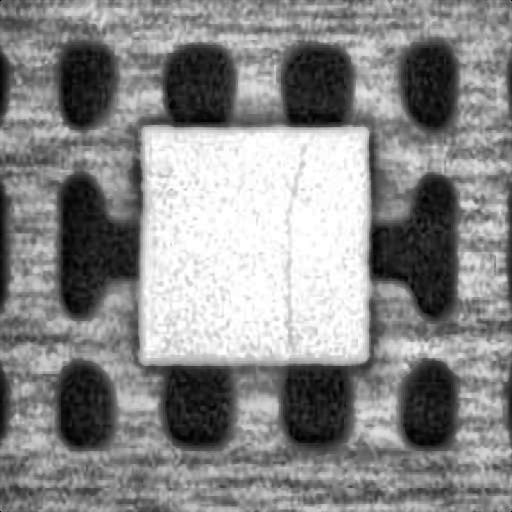DIE_CRACK: (279, 135, 315, 340)
